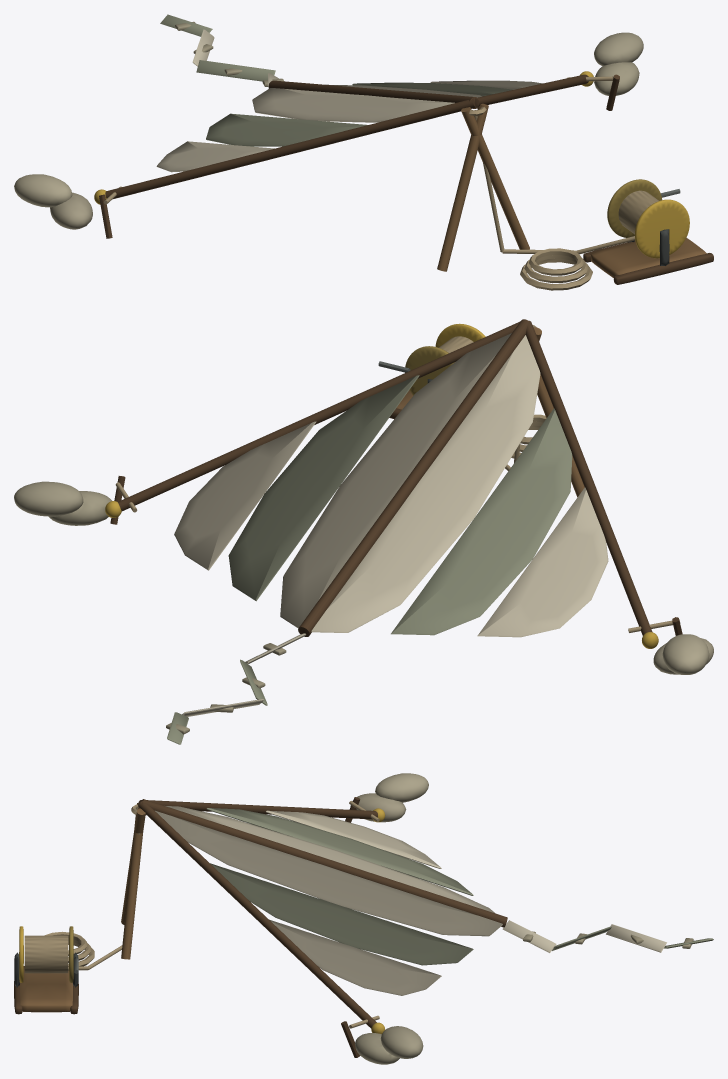
File: moored_kite_a.glb
The picture shows the model from 3 angles, top to bottom: view 1: azimuth 30°, elevation 25°; view 2: azimuth 150°, elevation 25°; view 3: azimuth 270°, elevation 25°; orthographic projection. The views are drawn at different scales.
Parts seen in each view (by area): view 1: Surface; view 2: Surface; view 3: Surface.
Part boxes in pixels (x1,y1,x2,y2): Surface: (14,14,713,290); Surface: (14,319,713,744); Surface: (14,773,713,1064).
Bounding box in the file's own units: 8.22 × 2.03 × 8.84.
